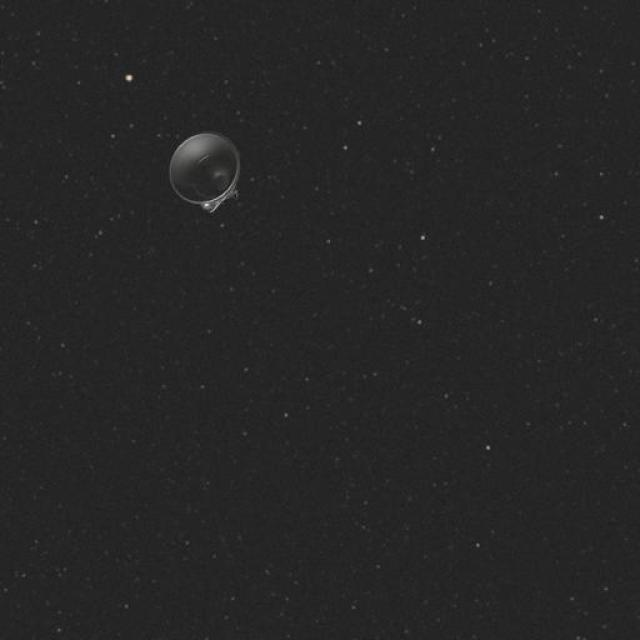debris: (165, 120, 249, 230)
